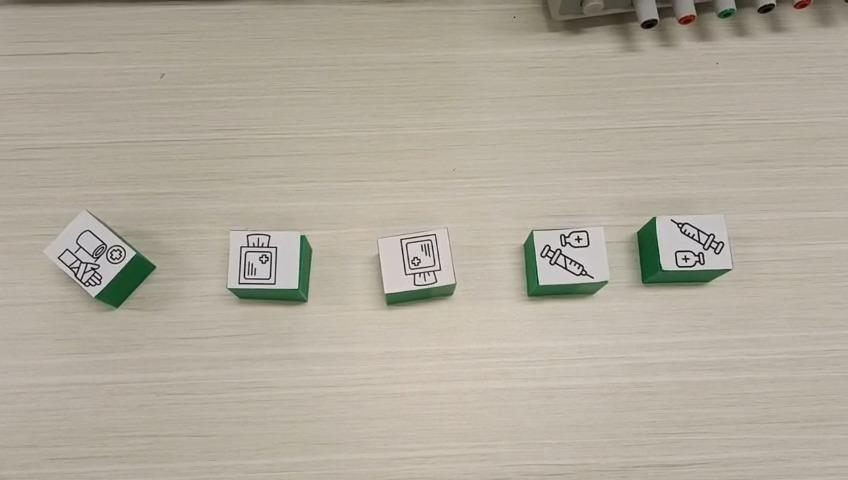Bandages: (40, 208, 156, 308)
Gauze: (376, 226, 457, 306), (228, 228, 313, 301)
antiseptic cream: (635, 212, 733, 284), (522, 225, 611, 296)
